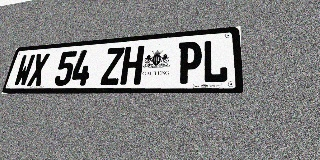4: (70, 49, 94, 86)
5: (53, 51, 77, 86)
H: (120, 45, 145, 85)
L: (202, 39, 228, 83)
P: (177, 41, 202, 84)
W: (12, 54, 36, 87)
X: (27, 53, 50, 86)
Z: (100, 47, 125, 85)
